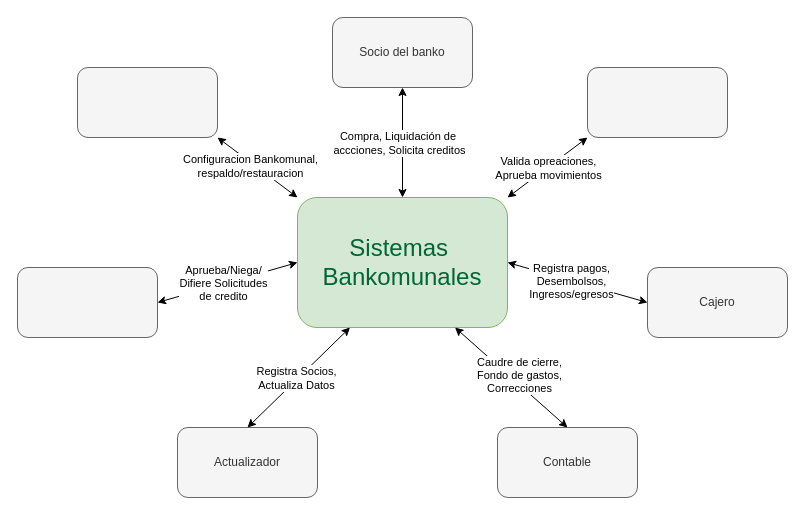
This 805x515 diagram has some shape labels left out. The shapes that lost their labels are listed below. From the top down, each one's box as (x1, y1, x2, y2) in pixels, then its label:
(76, 66, 218, 138): Administrador del sistema
(586, 66, 728, 138): Verificador
(16, 266, 158, 338): Junta Administradora
